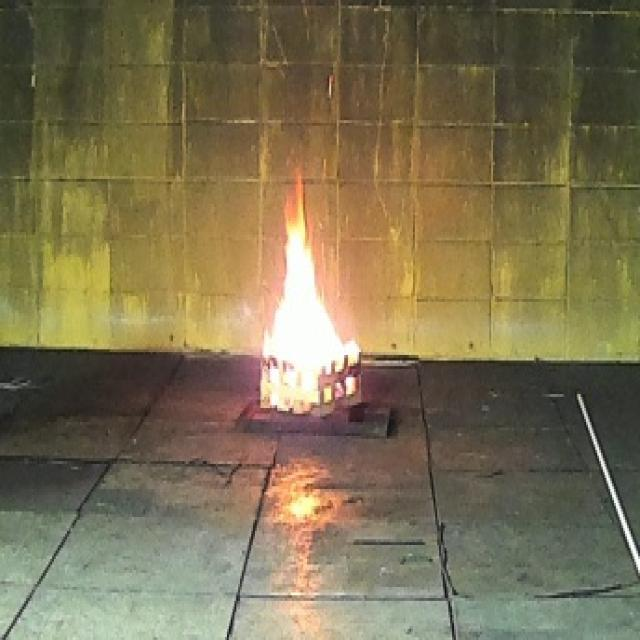Fire: (260, 166, 361, 414)
